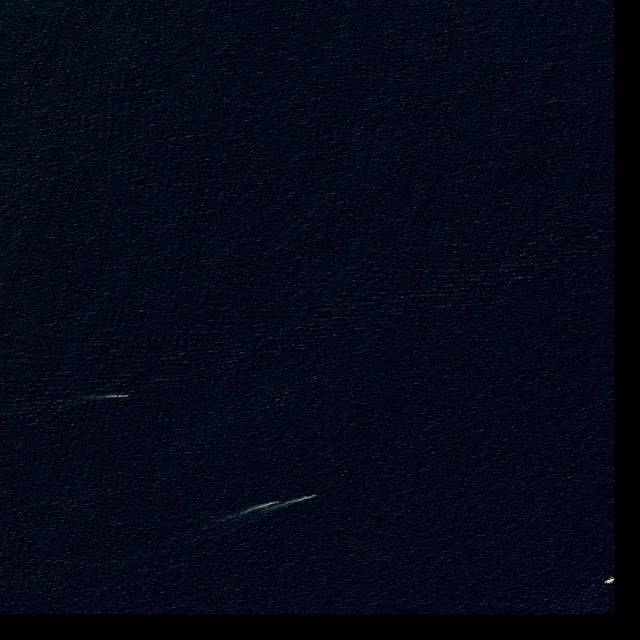ship: (604, 578, 614, 584), (312, 494, 317, 497), (276, 501, 280, 504), (126, 394, 129, 397)
